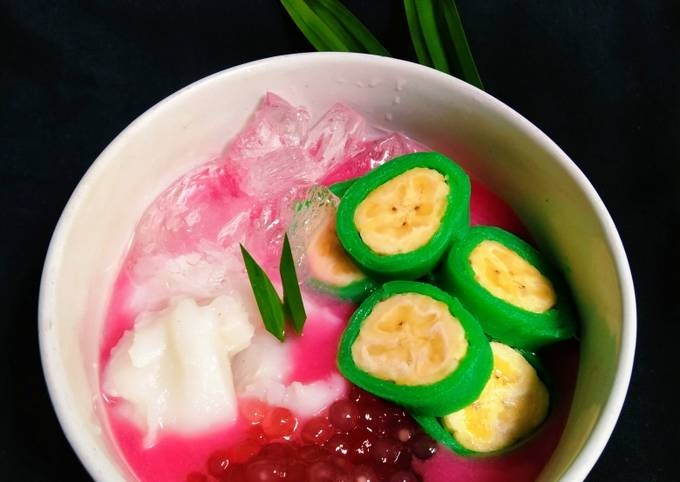pisang_ijo: (323, 285, 499, 410), (335, 164, 467, 281)
